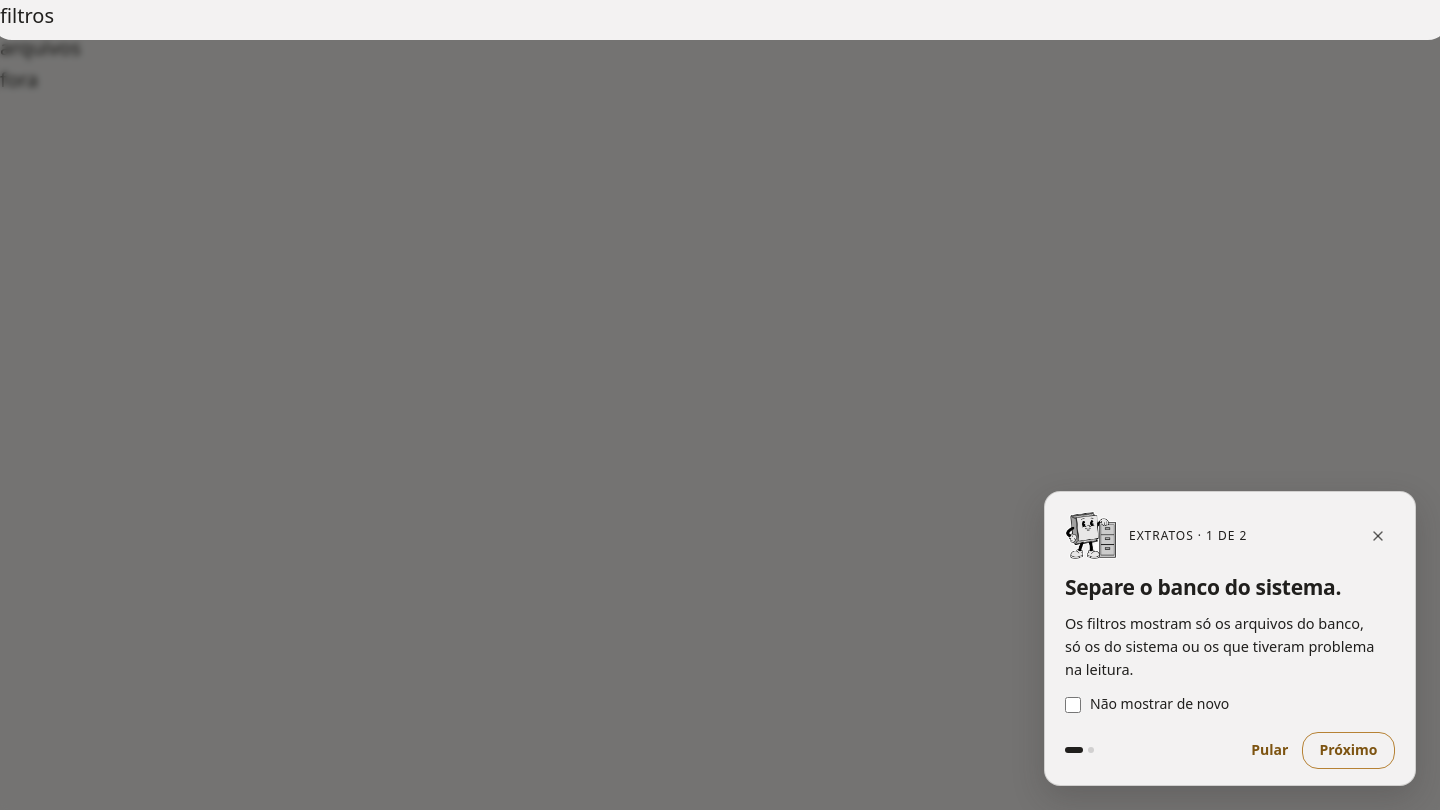
Test: Tutorial › no último passo, Entendi fecha
Expected: the dialog is shown, [1044,491,1416,786]
Click the button "Próximo" at (1348, 750), box [1302,732,1395,769]
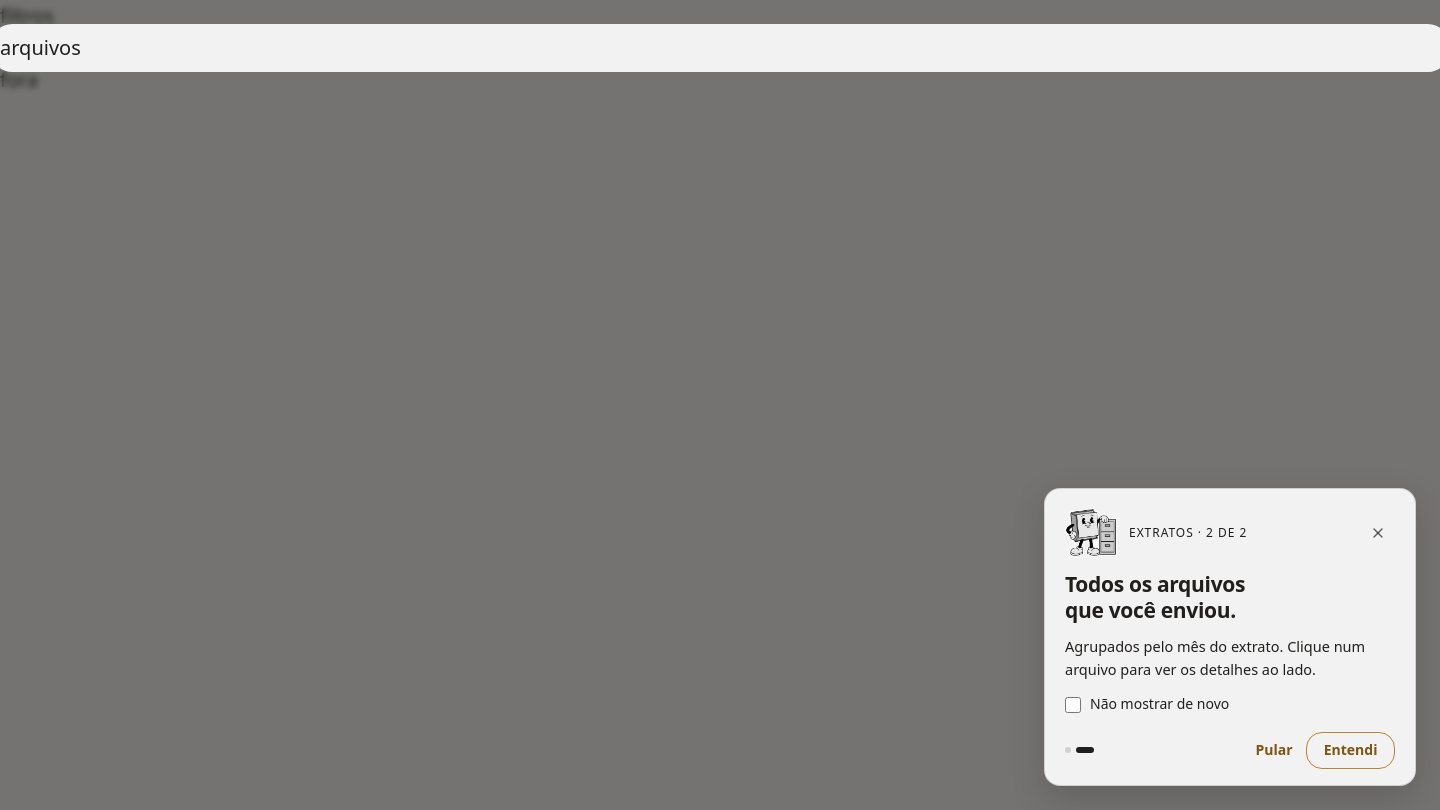
Click the button "Entendi" at (1351, 750), box [1306,732,1395,769]
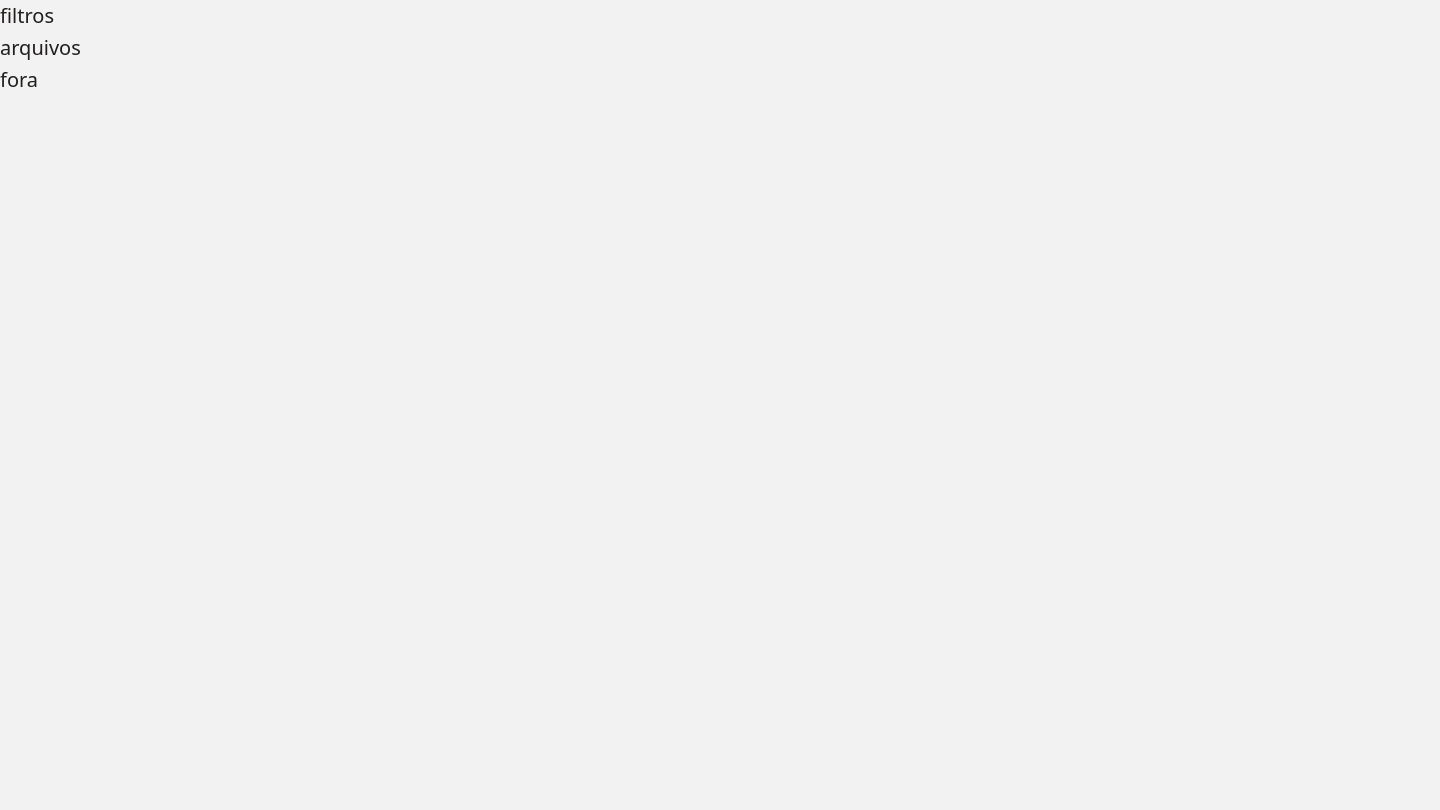
Expected: the dialog is gone
